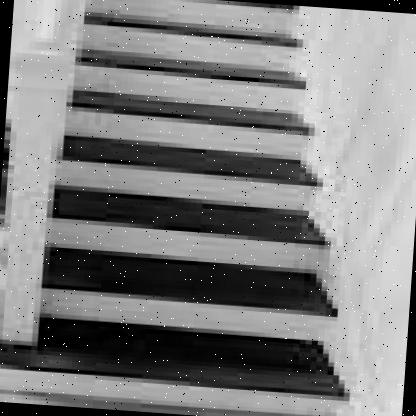stair: (23, 0, 365, 407)
